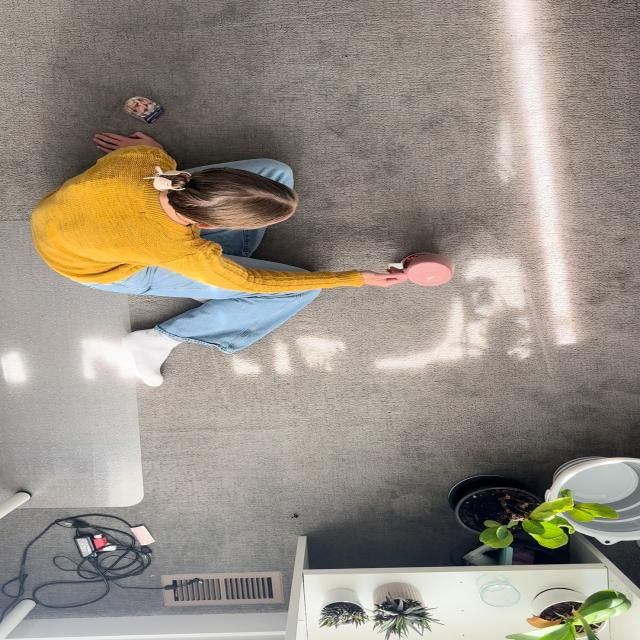IBC: (388, 252, 454, 286)
